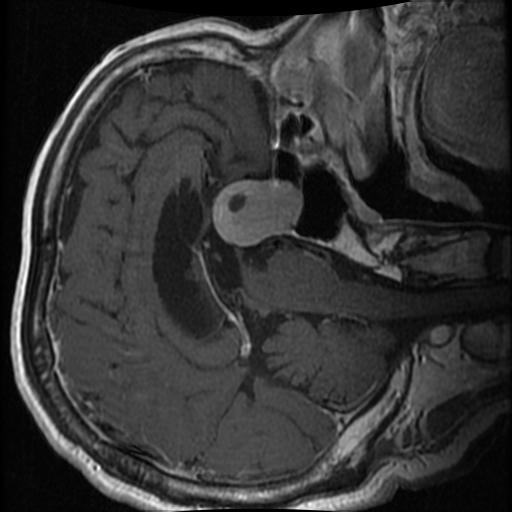pituitary tumour: (210, 178, 303, 248)
